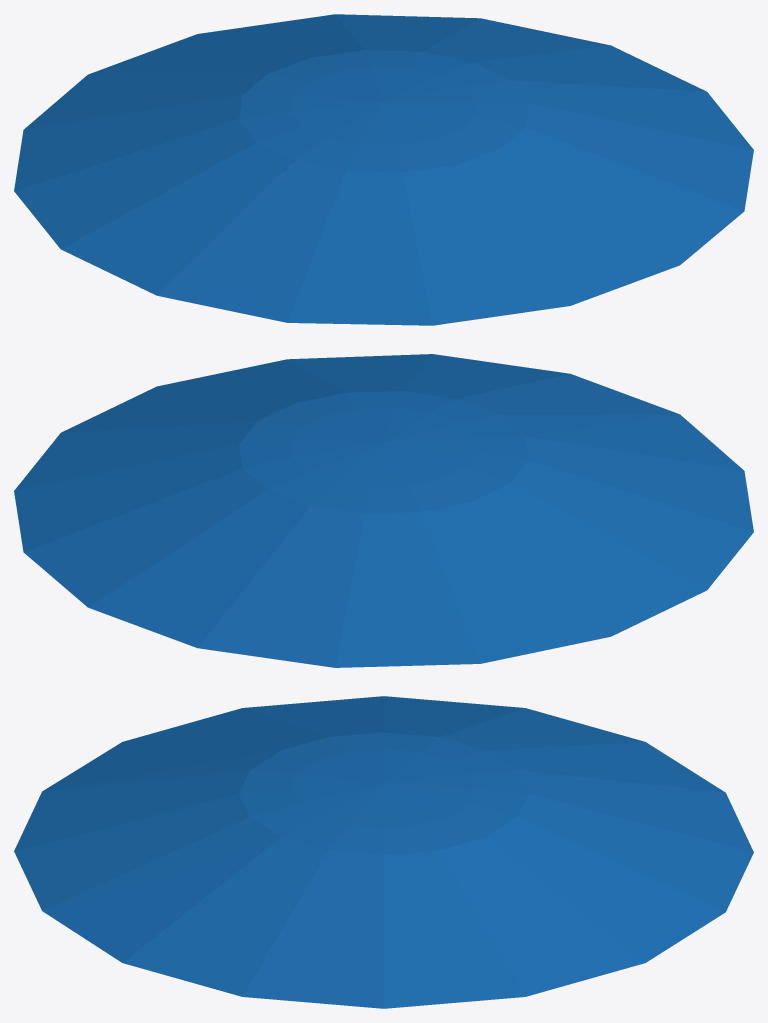
3 views of the same model, one above another, from view 1: azimuth 30°, elevation 25°; view 2: azimuth 150°, elevation 25°; view 3: azimuth 270°, elevation 25° (orthographic).
Parts seen in each view (by area): view 1: s13_dn_1; view 2: s13_dn_1; view 3: s13_dn_1.
Boxes of the visible parts, <box> form: s13_dn_1: <box>14,14,753,325</box>; s13_dn_1: <box>14,354,753,667</box>; s13_dn_1: <box>14,696,753,1008</box>.
Size of the model in its own units: 1073733 by 120640 by 1073733.
Materials: 2 (2 with a texture image).
